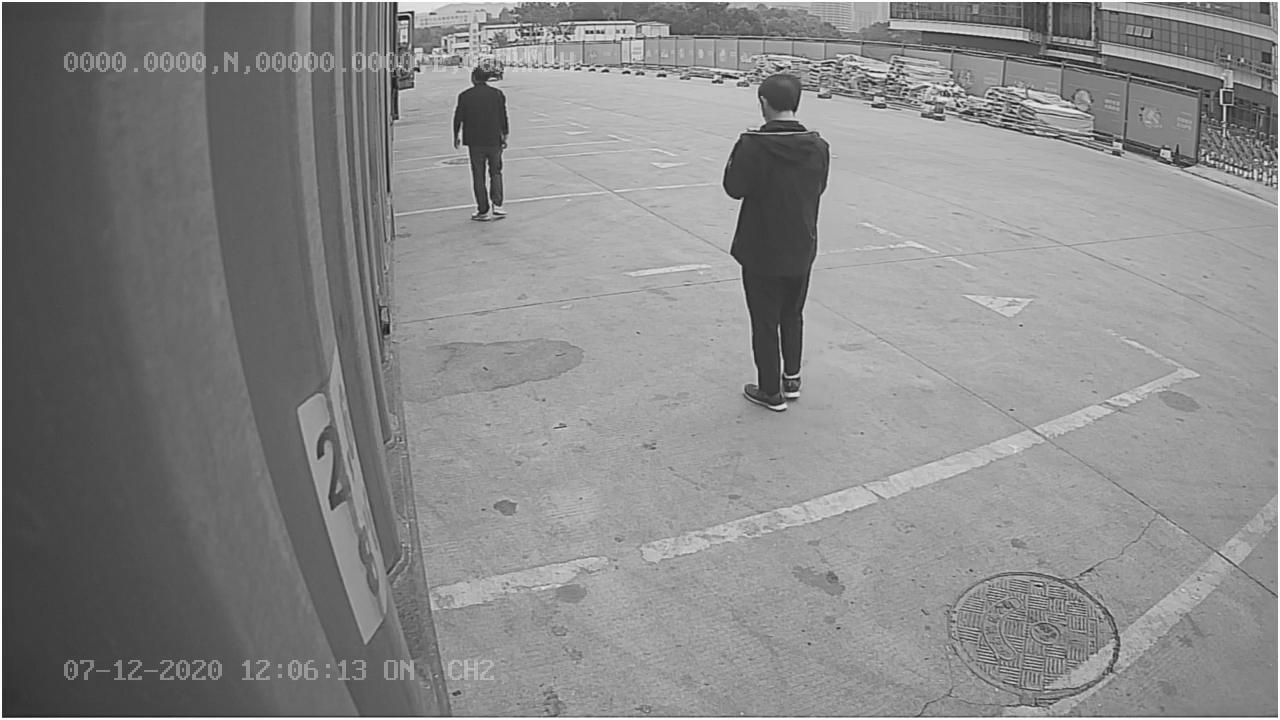person: (720, 73, 845, 415)
